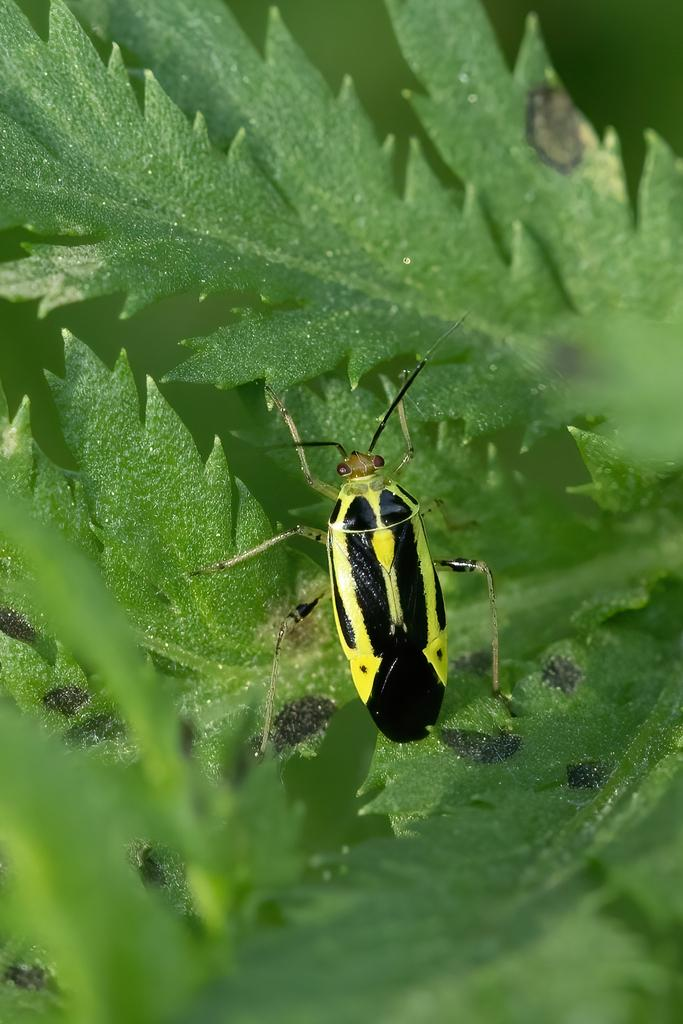plant_bugs: (171, 279, 571, 789)
